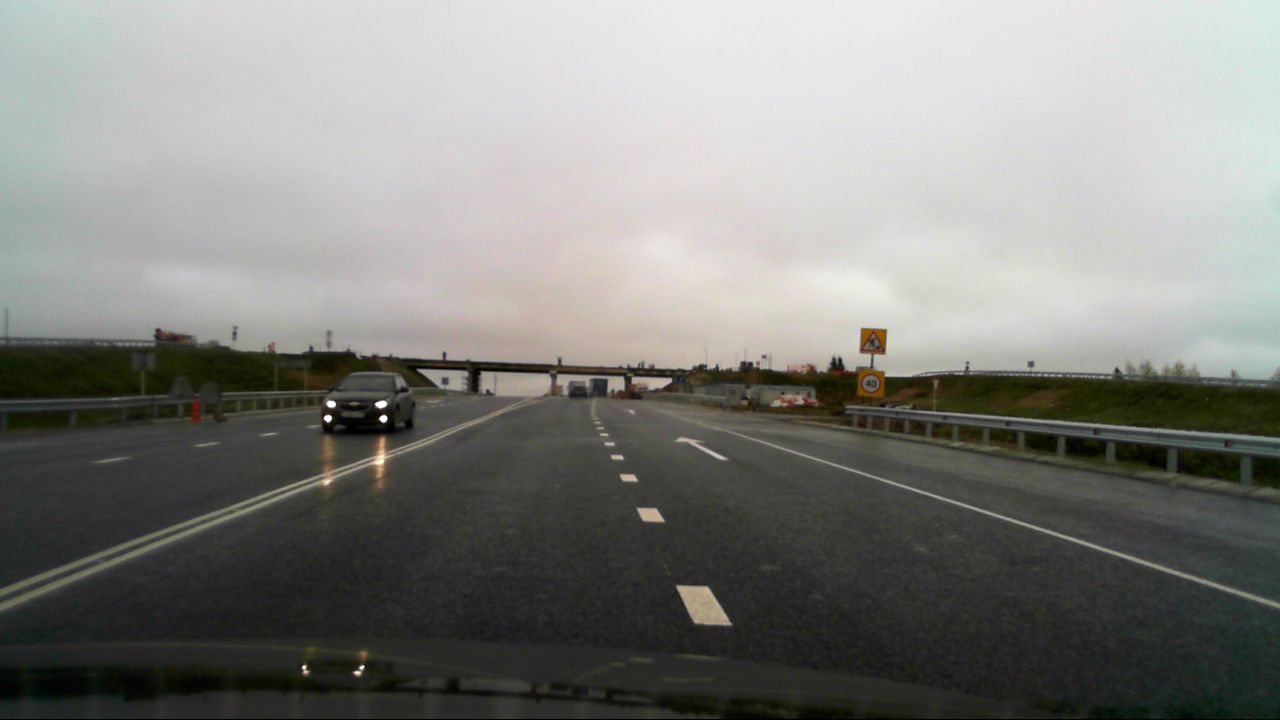speed_warning_40: (856, 369, 884, 398)
